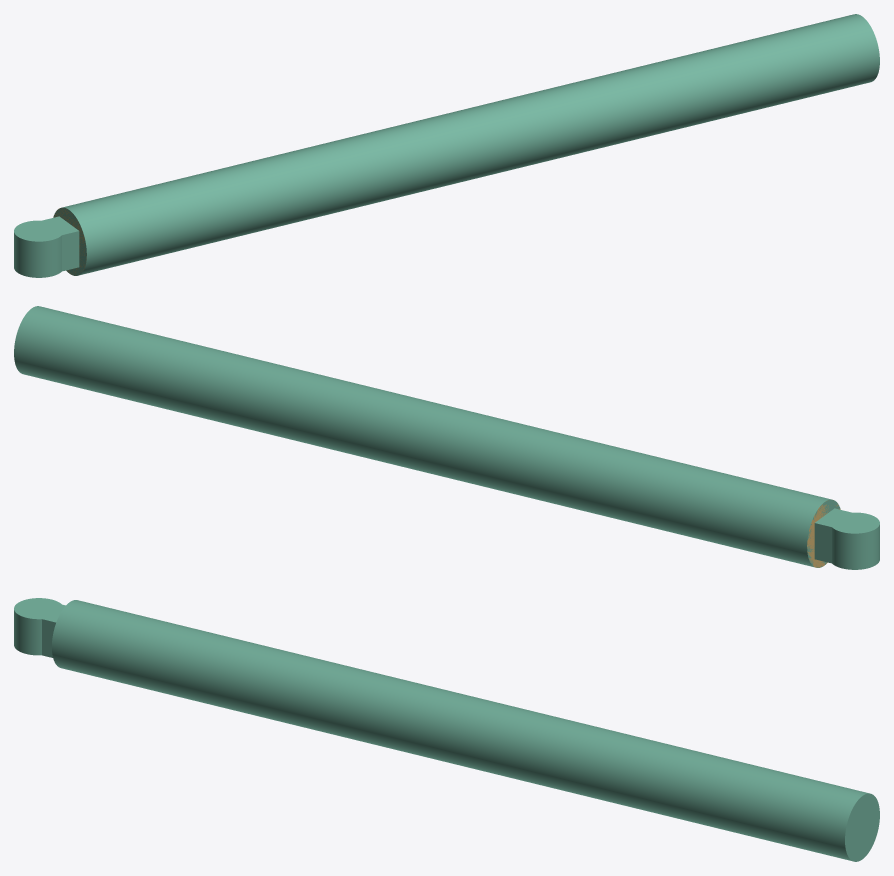
Rendered from step_02.glb.
The picture shows the model from 3 angles, top to bottom: view 1: azimuth 30°, elevation 25°; view 2: azimuth 150°, elevation 25°; view 3: azimuth 330°, elevation 25°; orthographic projection.
Visible parts, largest first — view 1: part__actuator body; view 2: part__actuator body; view 3: part__actuator body.
Boxes of the visible parts, x1,y1,x2,y2 form: part__actuator body: (14,14,879,277); part__actuator body: (14,306,879,569); part__actuator body: (14,598,879,861).
Size of the model in its own units: 1950 by 140 by 140.
